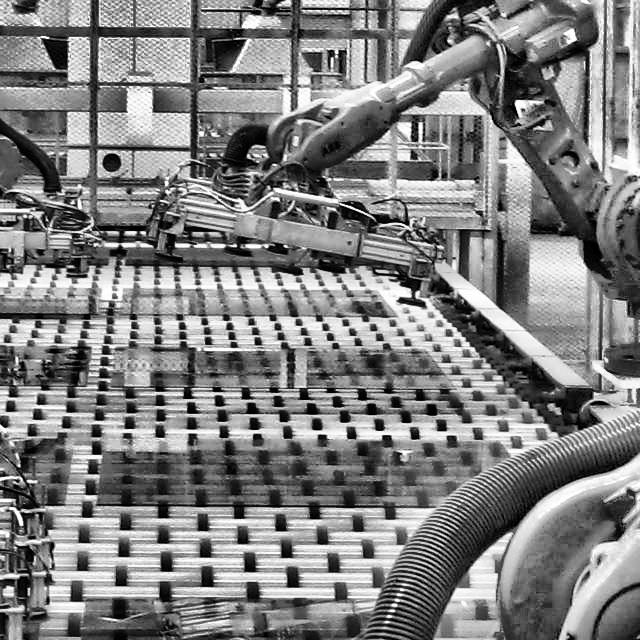robot: (64, 0, 640, 640), (150, 0, 640, 421)
